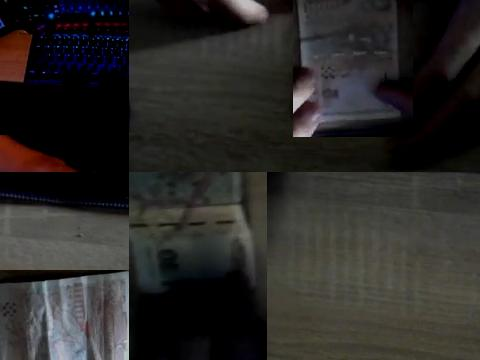10leva: (129, 172, 262, 360)
50leva: (0, 135, 129, 172)
5leva: (296, 0, 413, 137), (0, 270, 129, 360)
